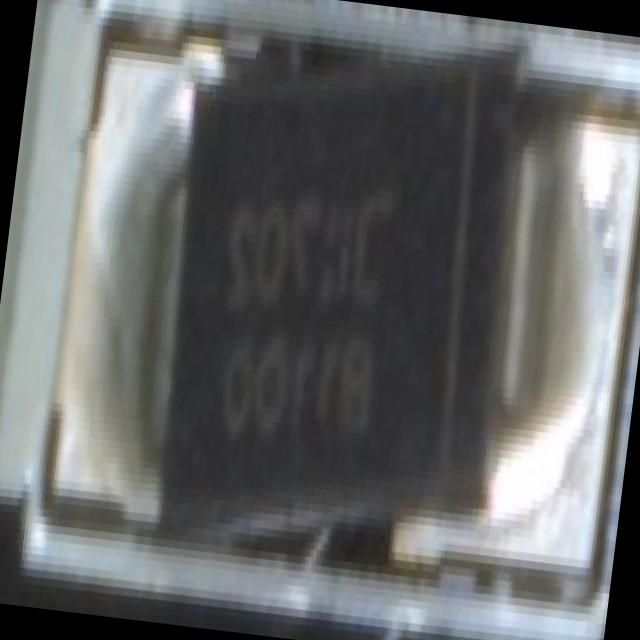diode: (120, 16, 564, 585)
